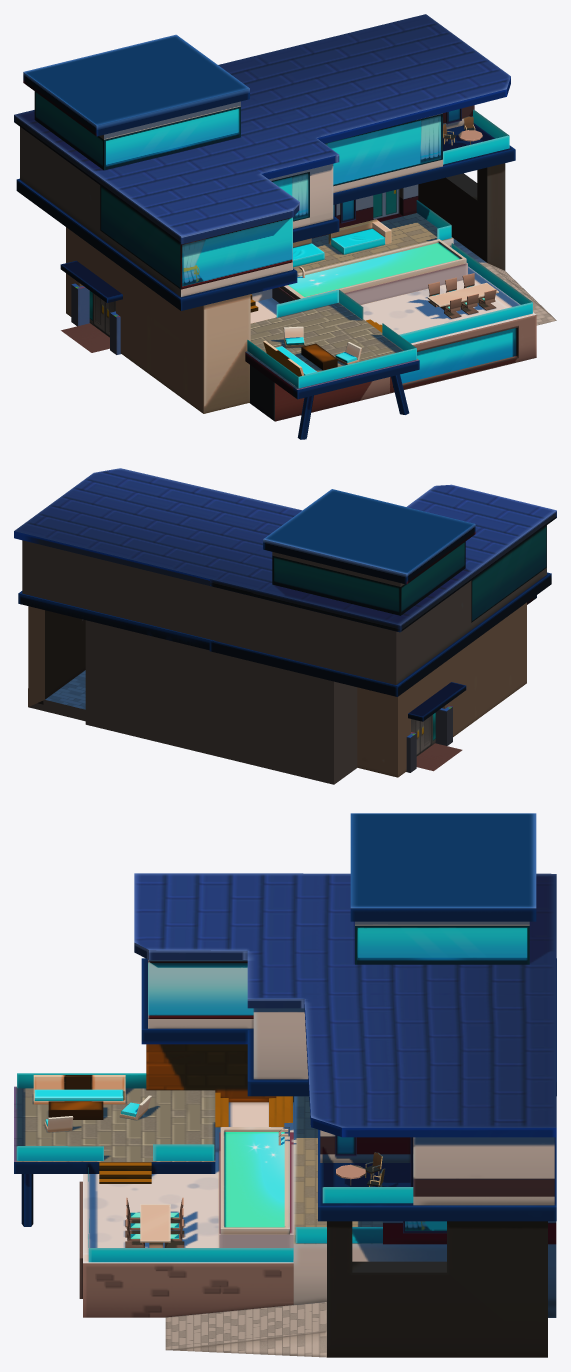
File: PlayerHouse_T7_fix_20180523_final.fbx
3 views of the same model, one above another, from view 1: azimuth 30°, elevation 25°; view 2: azimuth 150°, elevation 25°; view 3: azimuth 270°, elevation 25° (orthographic). The views are drawn at different scales.
Parts seen in each view (by area): view 1: Building, swimming_pool, chair_table_set_right, sofa3, sofa4, sofa, table1; view 2: Building; view 3: Building, swimming_pool, sofa4, chair_table_set_right, table1.
Boxes of the visible parts, <box> form: Building: <box>14,14,556,439</box>; swimming_pool: <box>279,239,466,299</box>; chair_table_set_right: <box>427,273,498,318</box>; sofa3: <box>328,219,391,254</box>; sofa4: <box>263,340,317,376</box>; sofa: <box>293,238,324,267</box>; table1: <box>301,343,337,370</box>; Building: <box>14,468,556,784</box>; Building: <box>14,813,556,1357</box>; swimming_pool: <box>220,1127,289,1234</box>; sofa4: <box>33,1075,125,1104</box>; chair_table_set_right: <box>125,1197,184,1247</box>; table1: <box>48,1101,103,1119</box>.
Size of the model in its own units: 59.78 by 32.96 by 54.
Materials: 1 (1 with a texture image).
